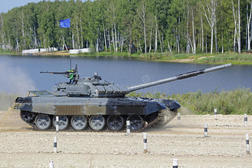t72: (21, 61, 235, 131)
